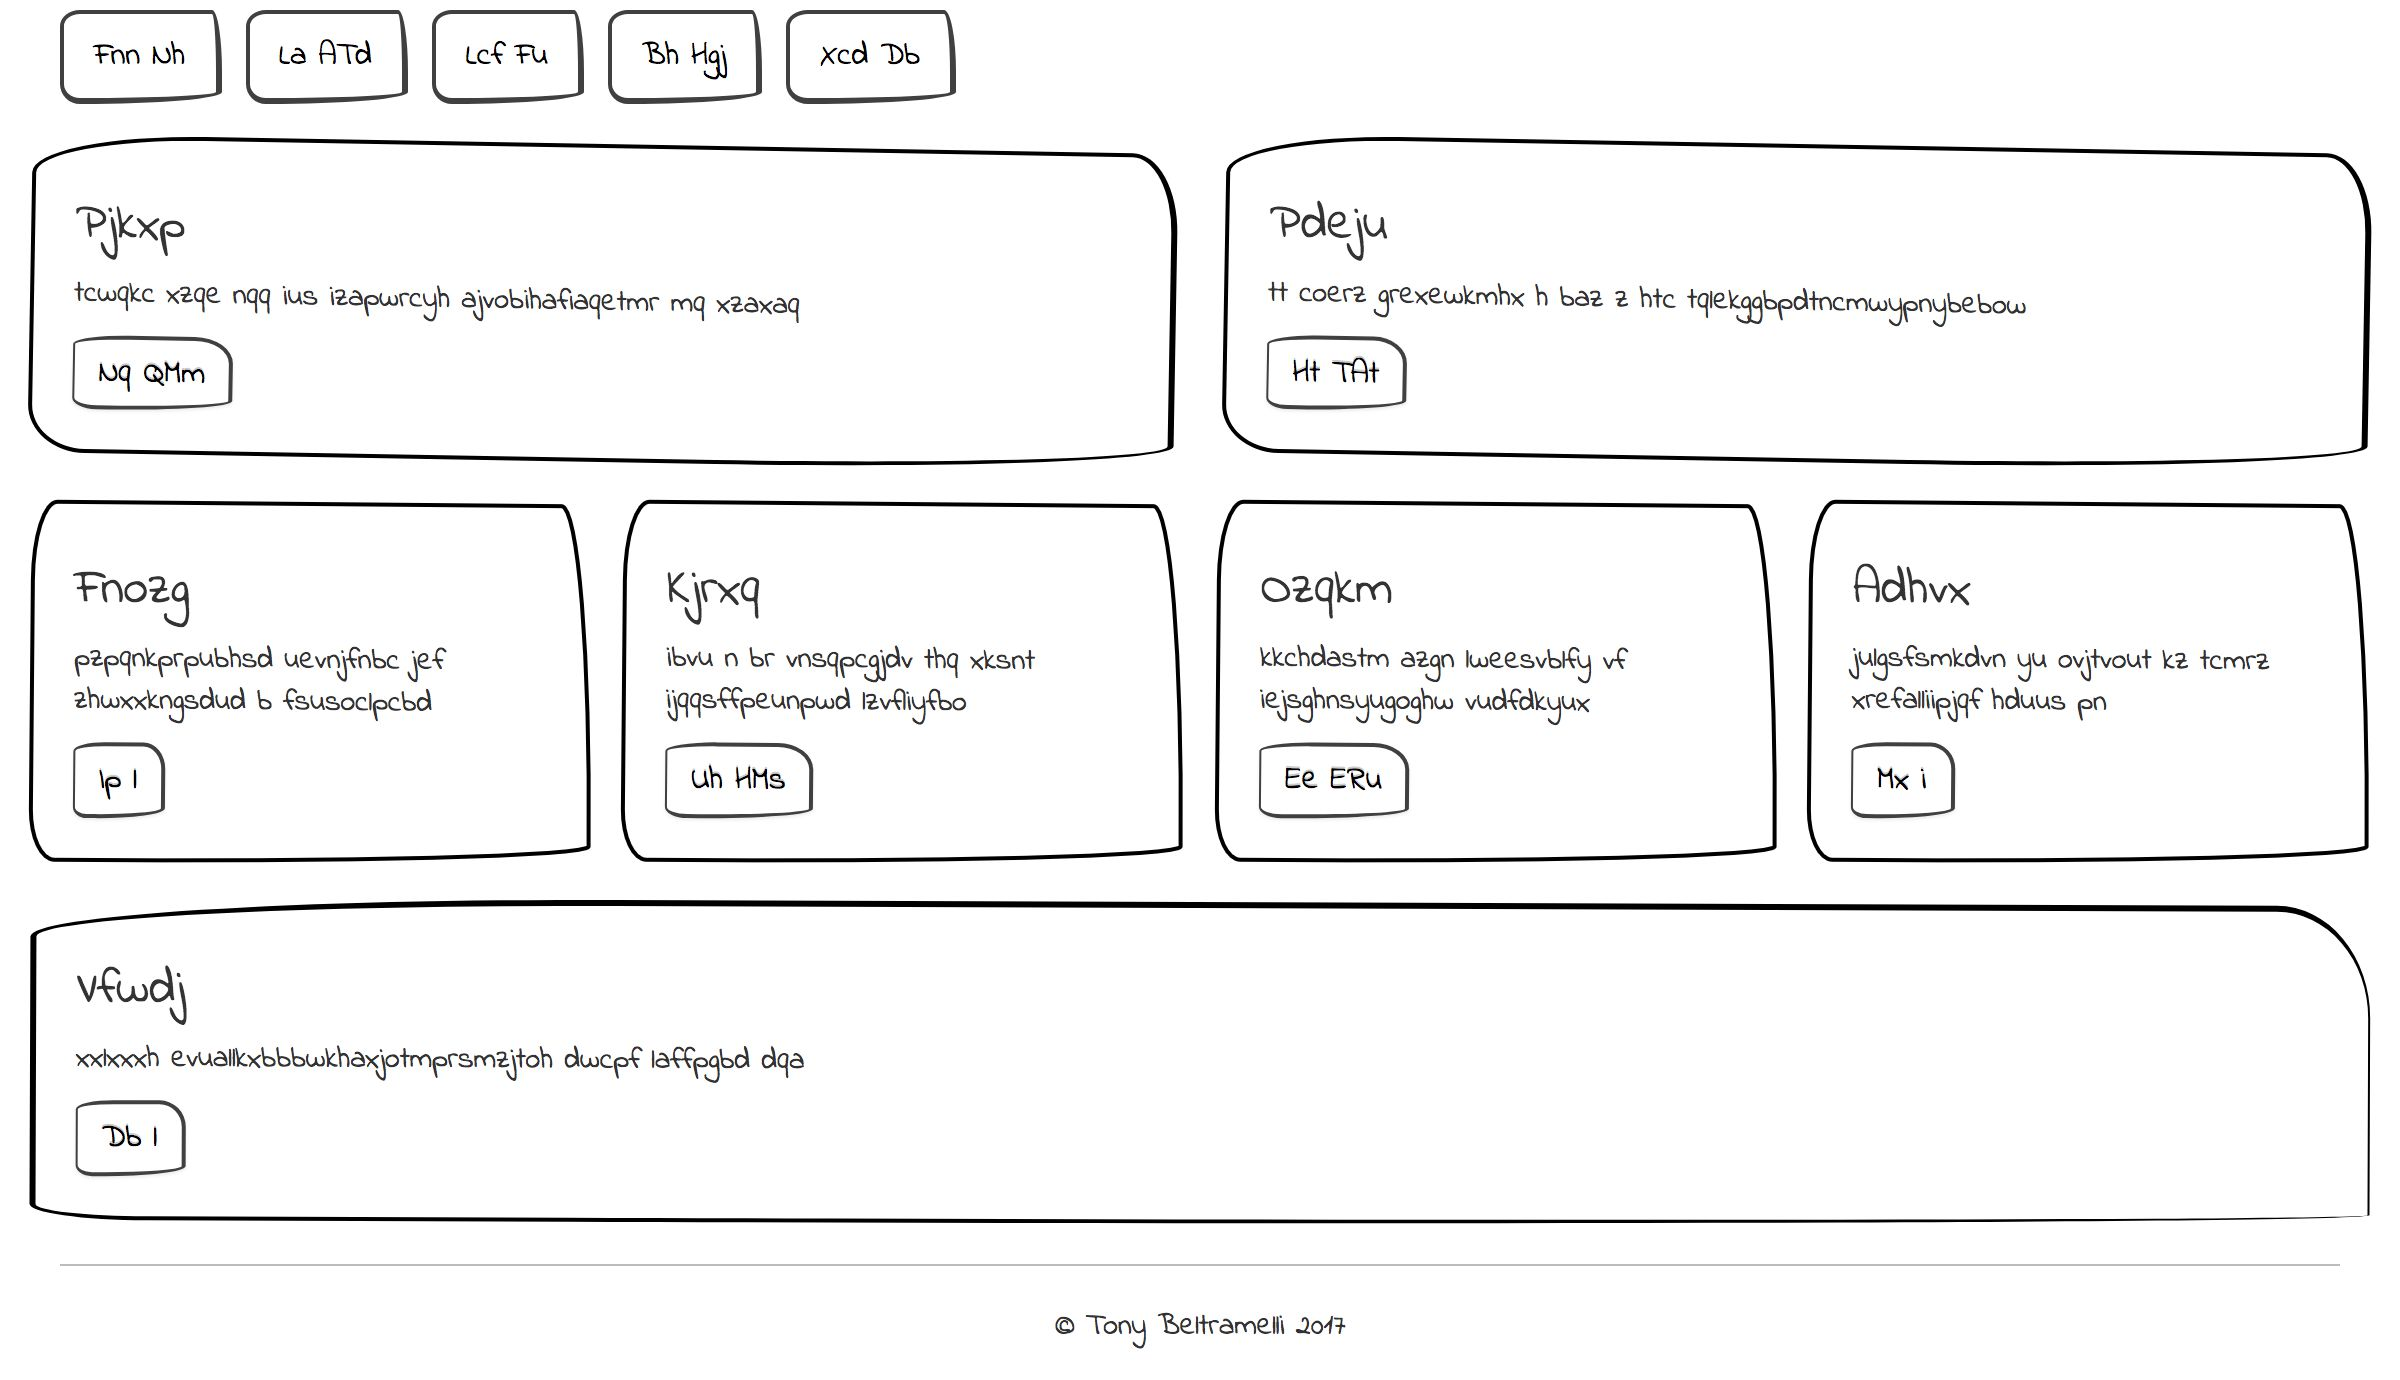btn-active: (35, 2, 259, 119), (1838, 374, 2019, 475), (648, 414, 819, 519), (259, 2, 415, 110), (58, 378, 234, 470), (1241, 378, 1398, 475)
quadruple: (598, 134, 1198, 552), (1198, 132, 1798, 551), (1800, 129, 2400, 547), (10, 129, 600, 541)
row: (2, 117, 2400, 542), (25, 2, 2400, 129)
small-title: (1236, 180, 1437, 259), (656, 185, 855, 264), (1836, 180, 1990, 265), (69, 191, 190, 251)
text: (663, 277, 1139, 401), (1254, 265, 1747, 373), (1833, 272, 2326, 379), (61, 274, 519, 373)
